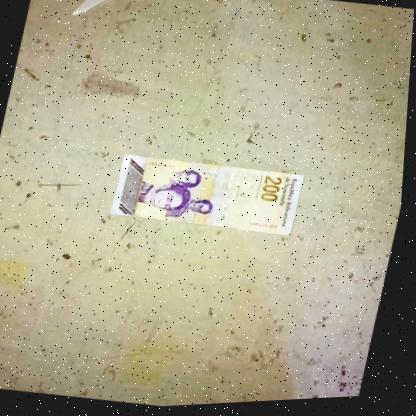two_hundred-front-vef: (110, 147, 310, 247)
